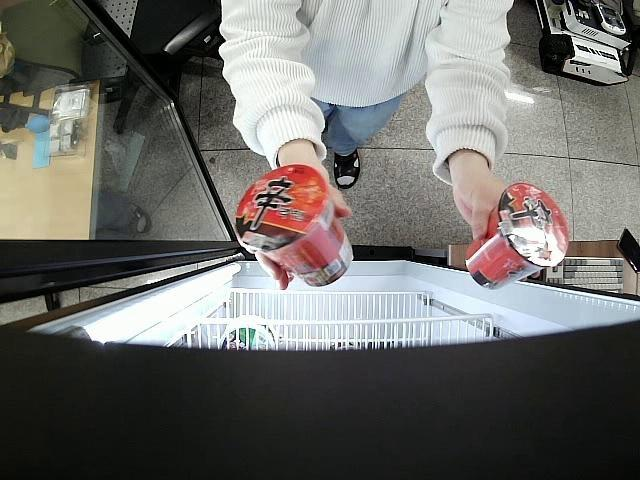02_shinRamen_S: (235, 165, 354, 288), (464, 182, 570, 289)
